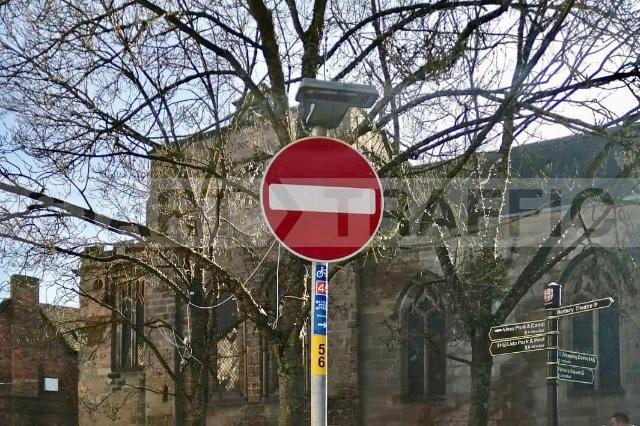B2: (258, 136, 384, 264)
